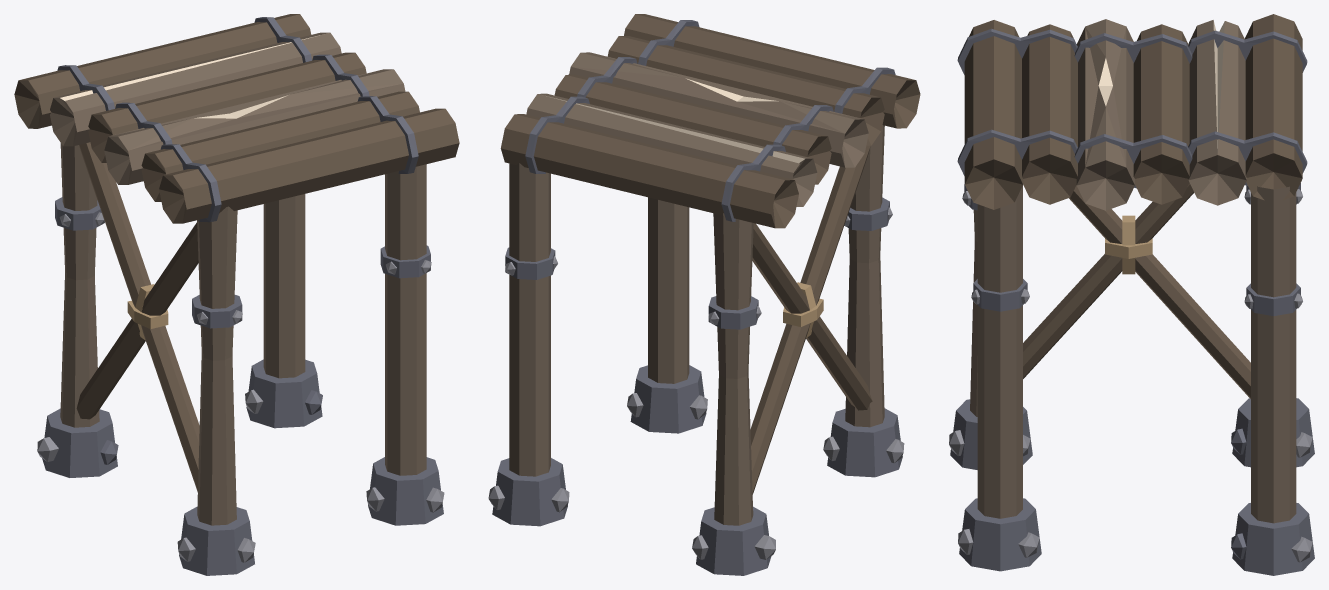
The model's file is _WALL_1_PART_2_01.fbx.
3 renders of one model, left to right at view 1: azimuth 30°, elevation 25°; view 2: azimuth 150°, elevation 25°; view 3: azimuth 270°, elevation 25°, orthographic. The views are drawn at different scales.
Visible parts, largest first — view 1: WALL_1_PART_2_01; view 2: WALL_1_PART_2_01; view 3: WALL_1_PART_2_01.
Boxes of the visible parts, x1,y1,x2,y2 form: WALL_1_PART_2_01: (14,14,459,575); WALL_1_PART_2_01: (488,14,920,575); WALL_1_PART_2_01: (949,14,1314,575).
Bounding box in the file's own units: 246 × 322 × 256.
